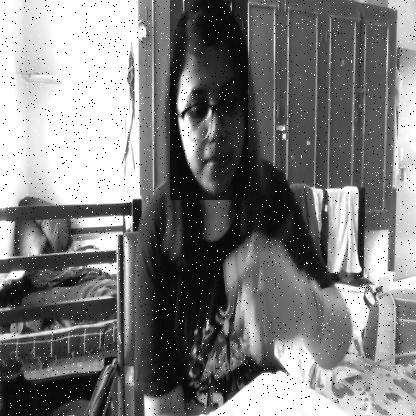Normal: (170, 0, 248, 200)
